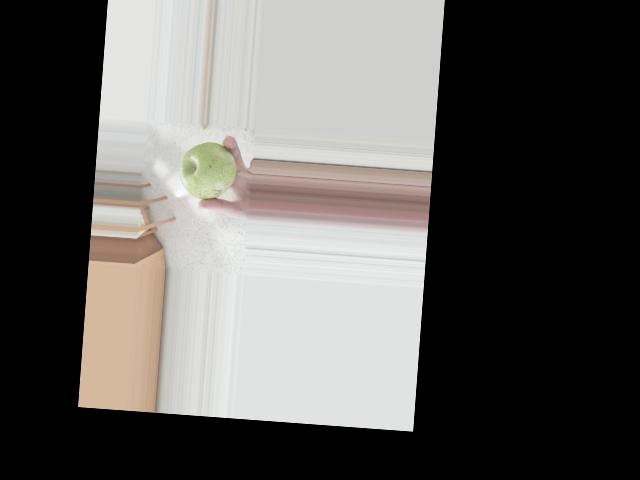apple: (176, 137, 239, 202)
